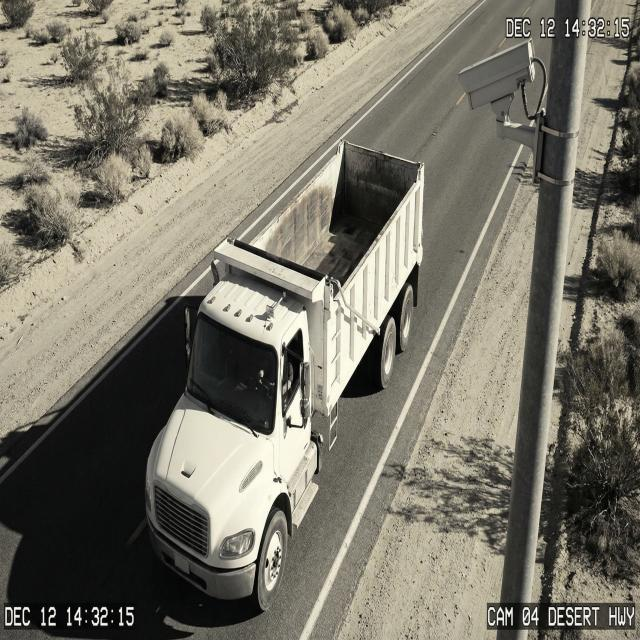Box: (213, 142, 426, 297)
Truck: (139, 131, 430, 593)
